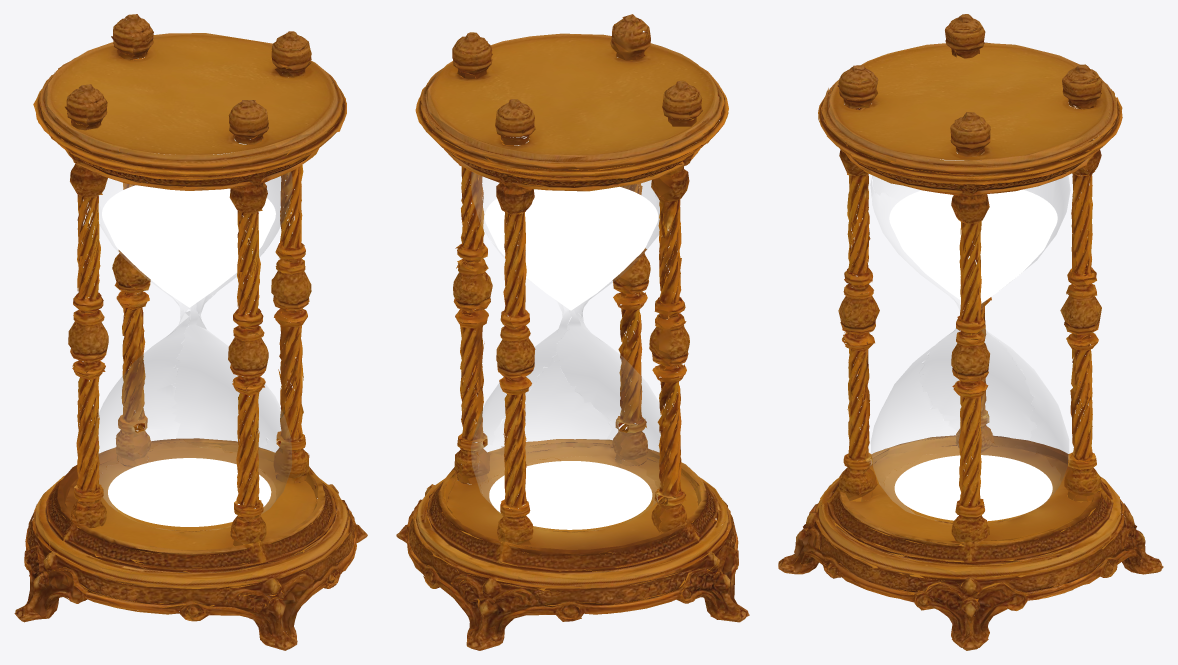
3 renders of one model, left to right at view 1: azimuth 30°, elevation 25°; view 2: azimuth 150°, elevation 25°; view 3: azimuth 270°, elevation 25°, orthographic. The views are drawn at different scales.
Parts seen in each view (by area): view 1: body, glass, timeup, timedown; view 2: body, glass, timeup, timedown; view 3: body, glass, timeup, timedown.
Part boxes in pixels (left/top/right/bottom): body: left=14, top=14, right=367, bottom=650; glass: left=98, top=140, right=292, bottom=529; timeup: left=102, top=185, right=275, bottom=307; timedown: left=108, top=458, right=271, bottom=526; body: left=396, top=14, right=749, bottom=650; glass: left=471, top=137, right=661, bottom=530; timeup: left=484, top=186, right=658, bottom=310; timedown: left=489, top=461, right=652, bottom=529; body: left=778, top=14, right=1163, bottom=650; glass: left=870, top=152, right=1070, bottom=515; timeup: left=889, top=189, right=1057, bottom=303; timedown: left=894, top=455, right=1052, bottom=521.
Bounding box in the file's own units: 0.2277 × 0.3276 × 0.2265.
3 materials, 1 textured.
